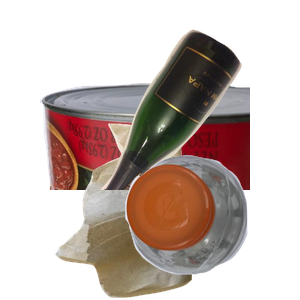glass: (87, 27, 300, 207)
metal: (37, 81, 277, 261)
plastic: (123, 152, 300, 300)
trash: (53, 121, 239, 300)
